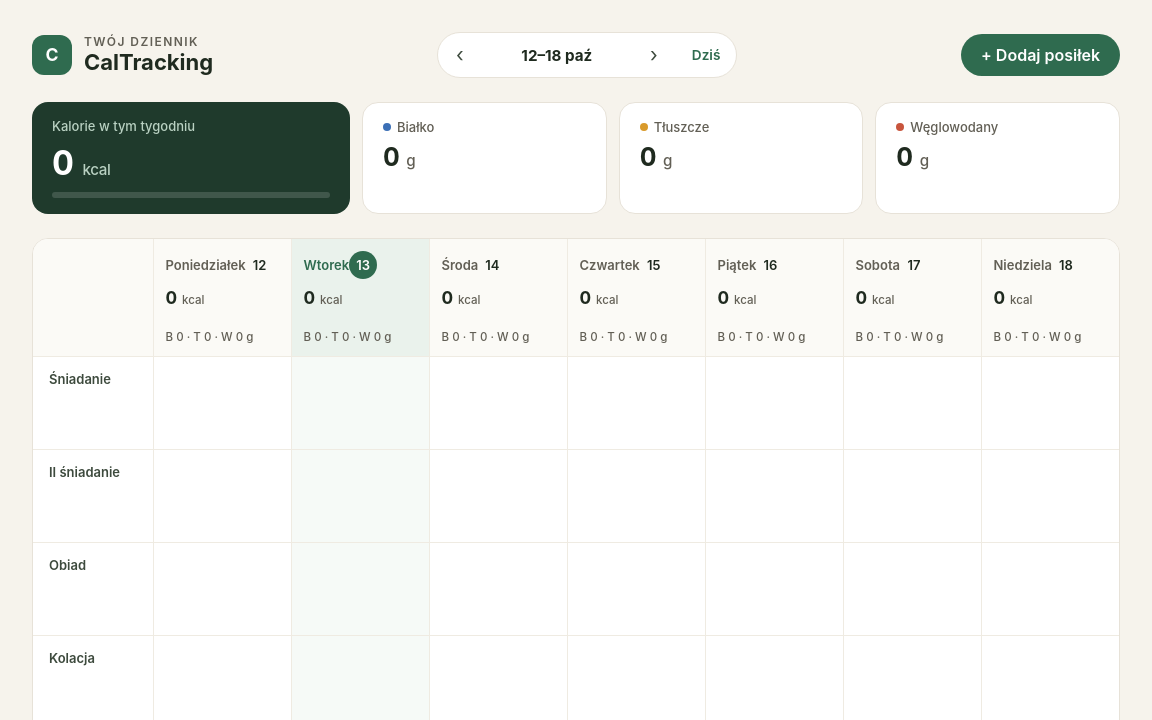
Test: rejestr posiłków › pokazuje komunikaty dla nieprawidłowych danych formularza
Click the button "+ Dodaj posiłek".
click(1040, 55)  # box [961, 34, 1120, 76]
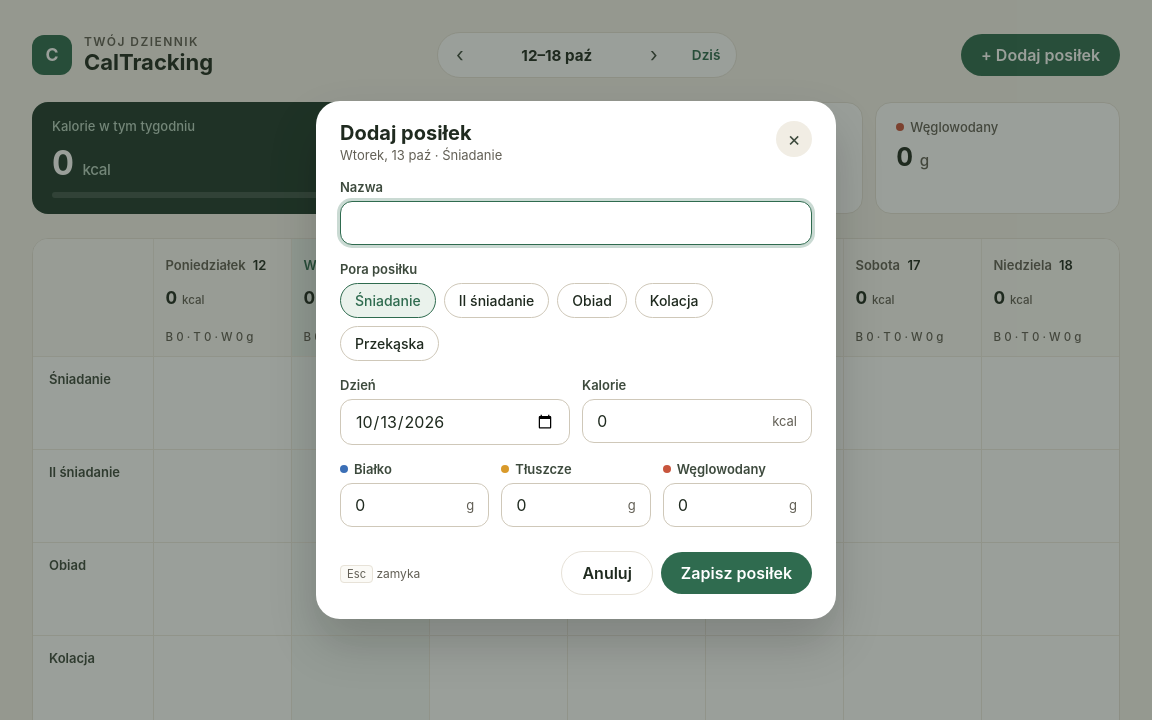
Clear the number field named "Kalorie (kcal)" at x=678, y=421, box [583, 400, 772, 442]
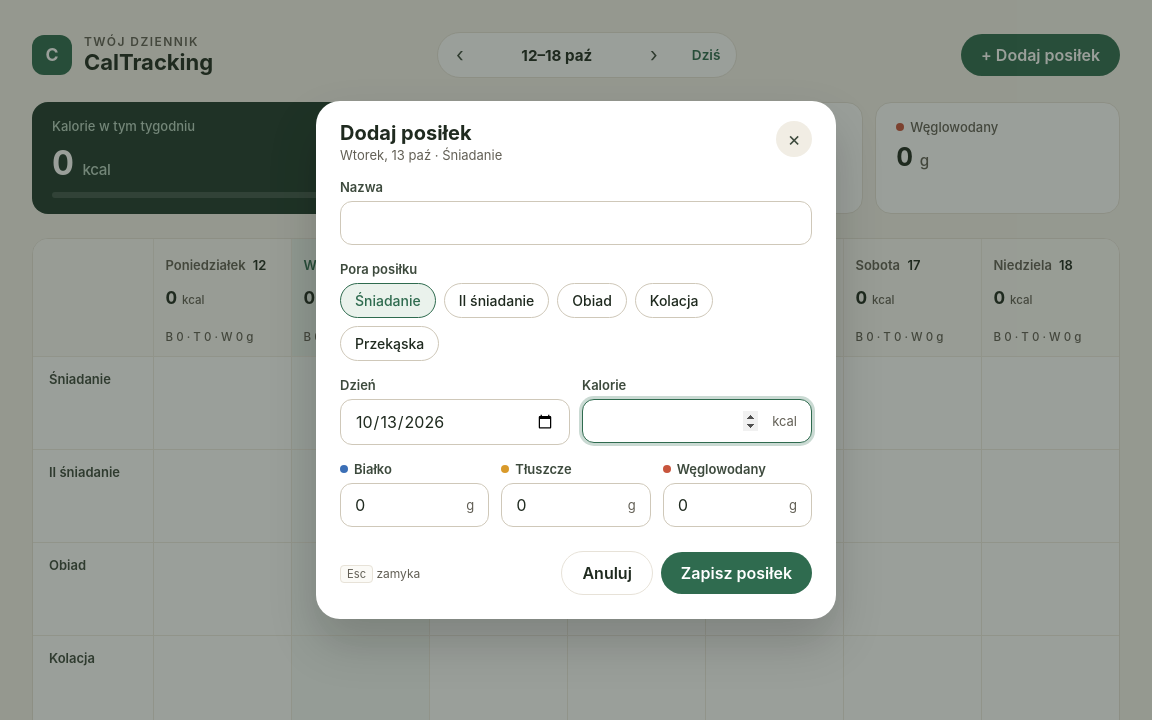
Click the button "Zapisz posiłek".
click(736, 573)  # box [661, 552, 812, 594]
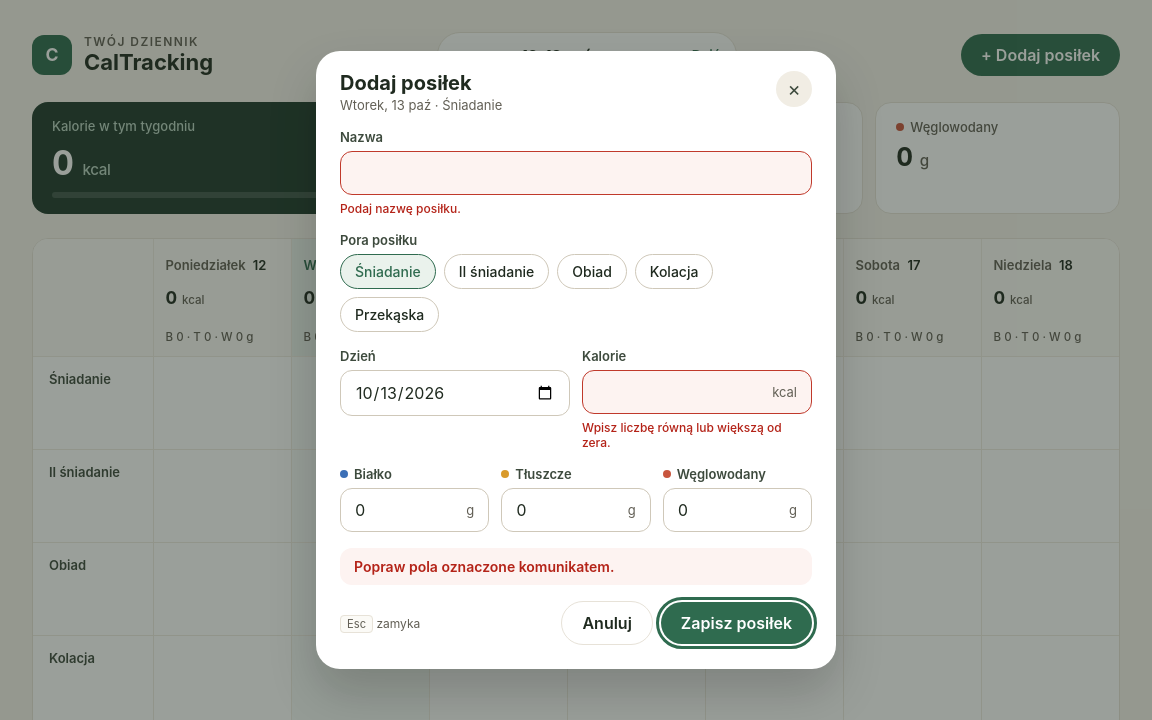
Check: the text "Podaj nazwę posiłku." is shown, box [340, 201, 461, 216]
Check: the text "Wpisz liczbę równą lub większą od zera." is shown, box [582, 420, 812, 450]
